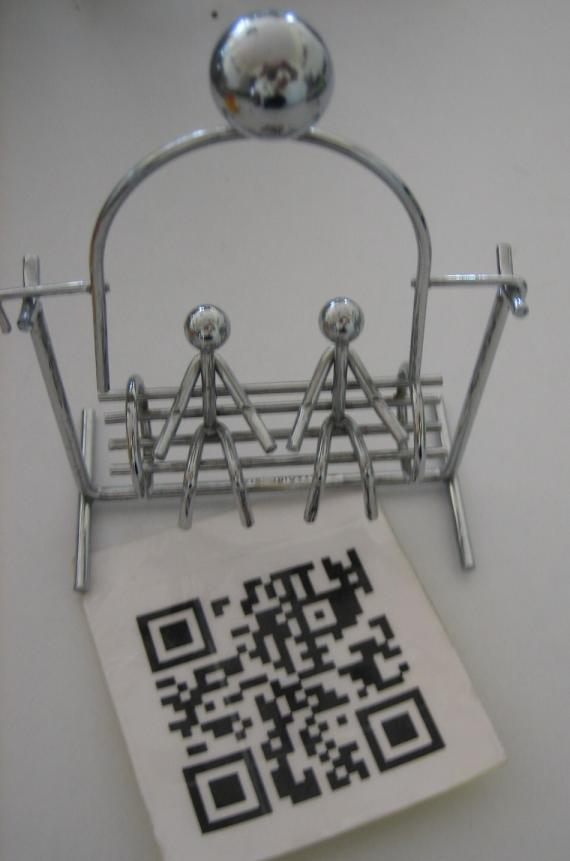QR-CODE: (136, 547, 445, 834)
